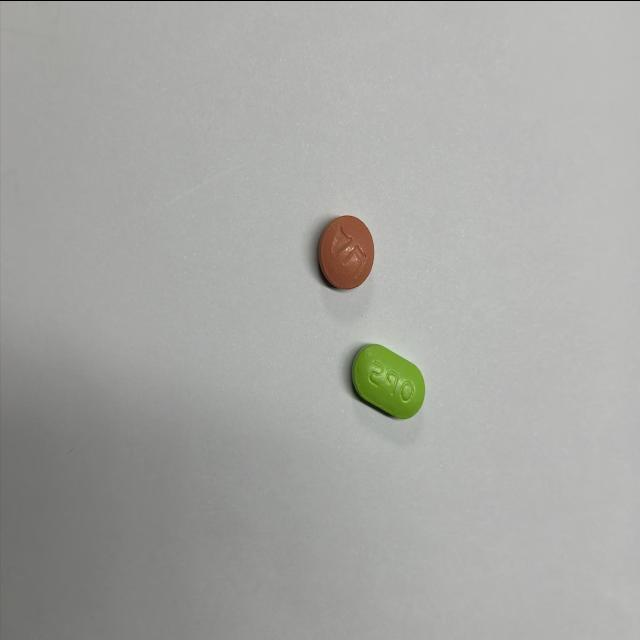Piller: (352, 343, 425, 418), (319, 215, 374, 288)
